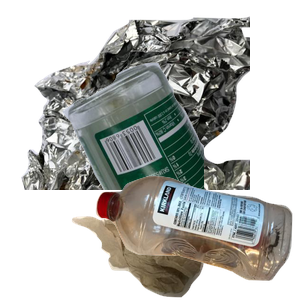glass: (60, 60, 300, 240)
metal: (19, 14, 259, 194)
plastic: (93, 173, 300, 300)
trash: (66, 137, 263, 300)
